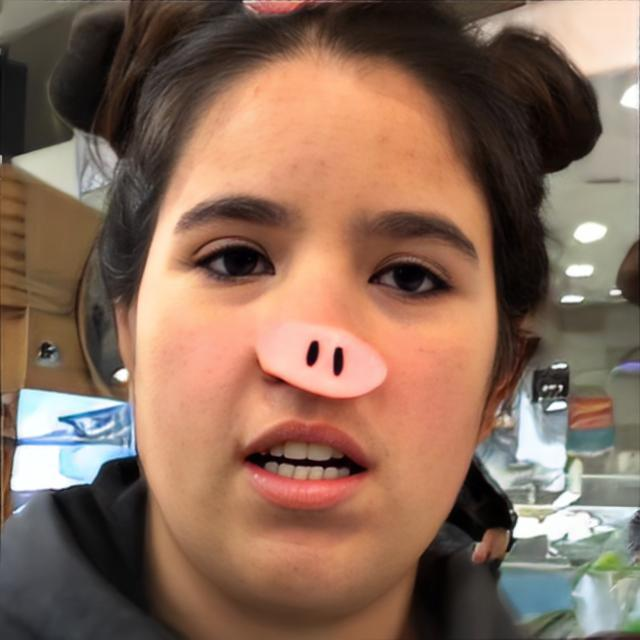disgust: (130, 36, 500, 622)
